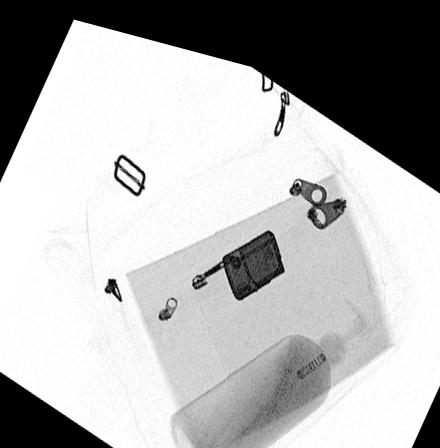Lighter: (221, 214, 285, 288)
